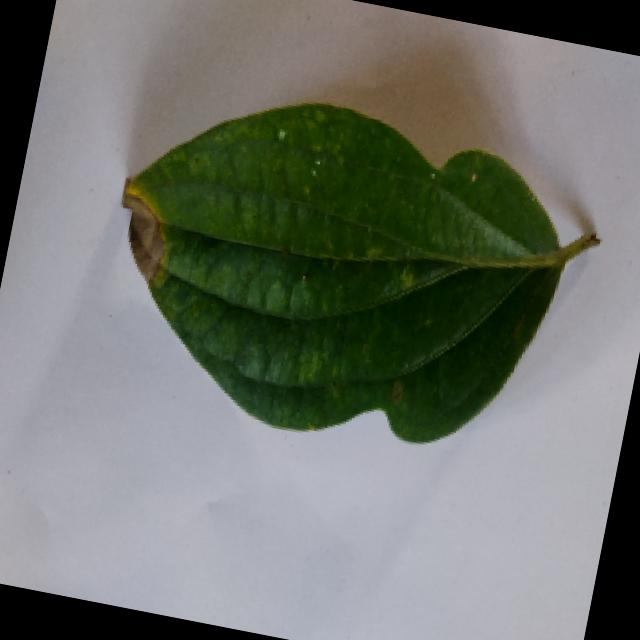footrot: (89, 61, 625, 486)
